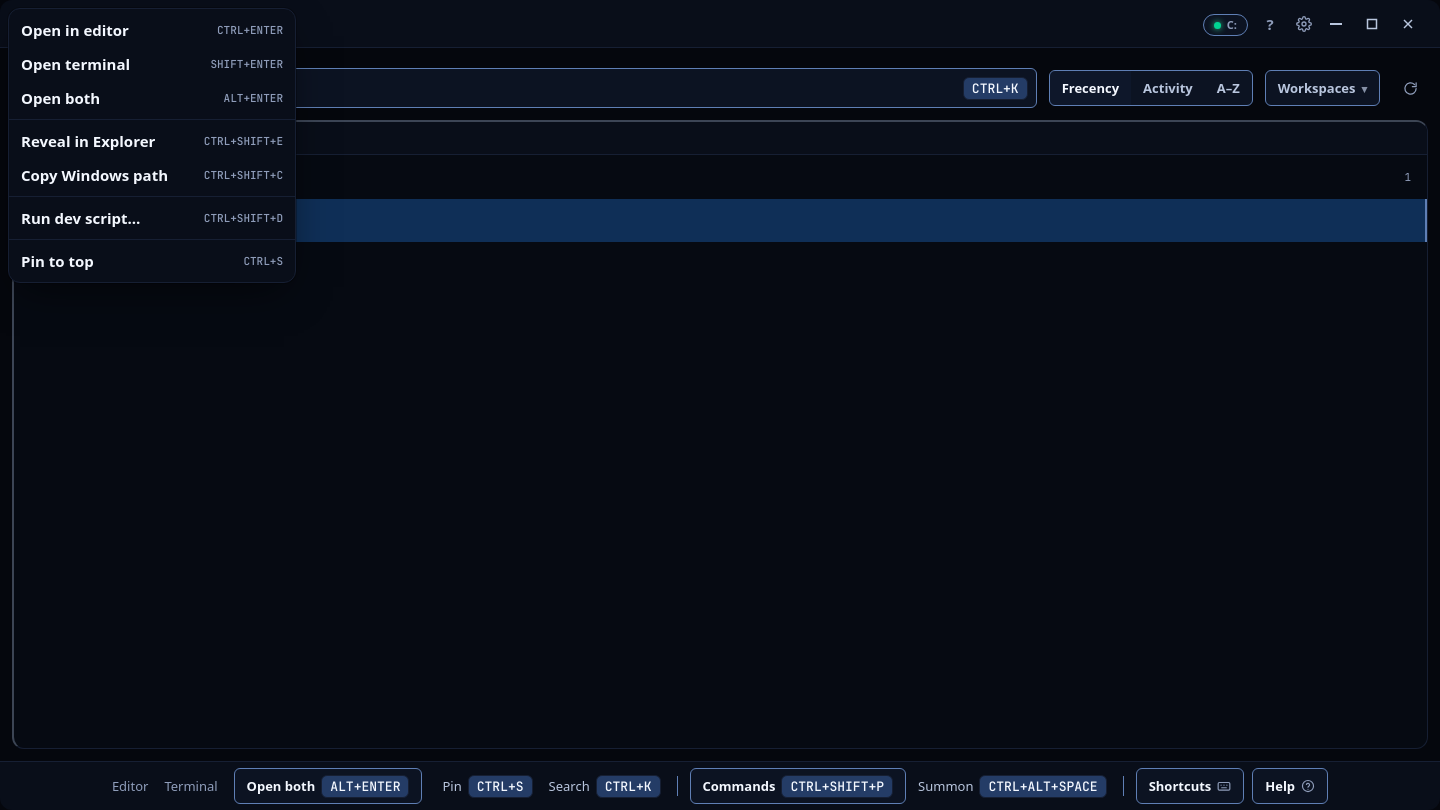
Test: project menu › launch section › "Open both" surfaces its refusal as a toast
Click the 1st button "Open both Alt+Enter".
click(61, 98)  # box [9, 81, 295, 115]
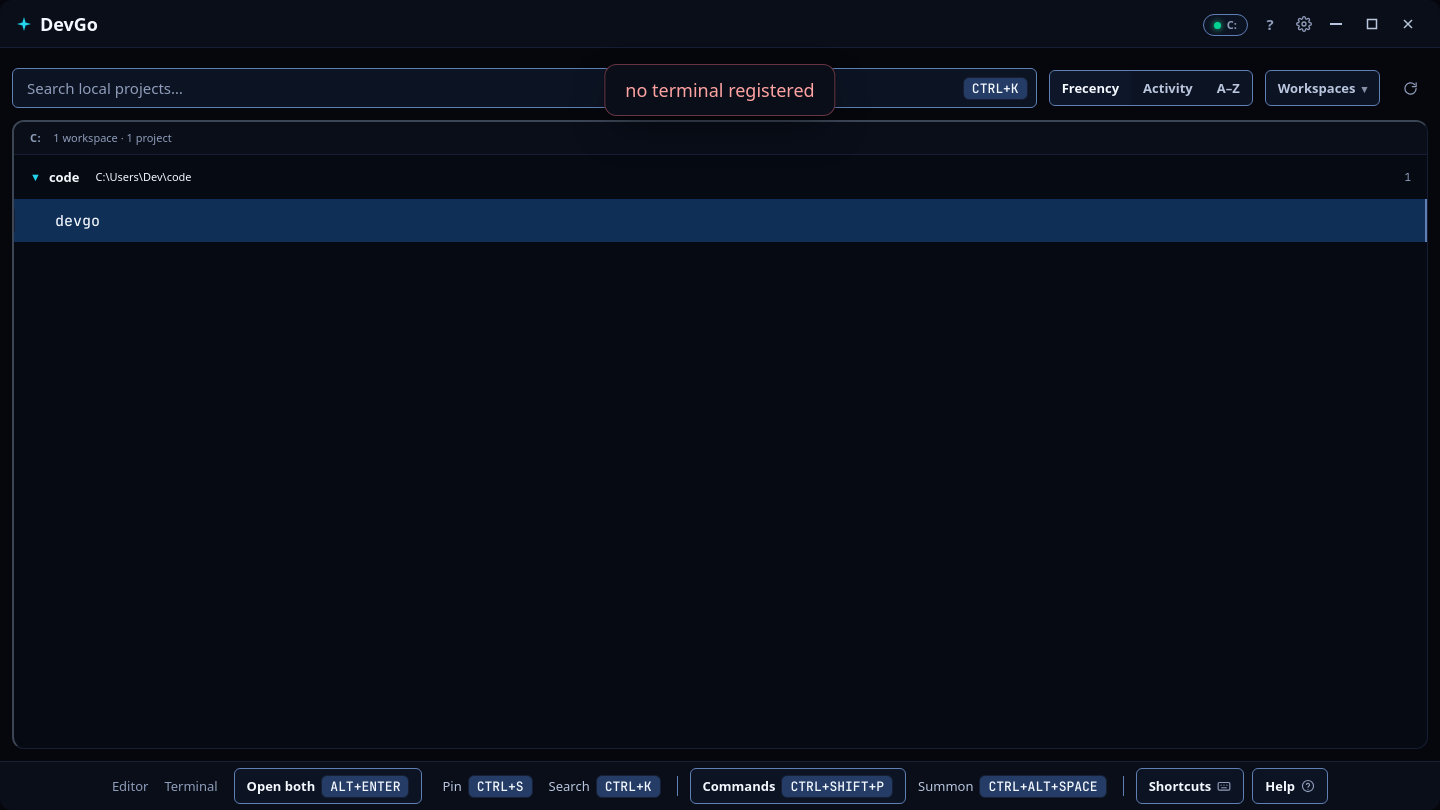
Result: the text "no terminal registered" is shown at [625, 77, 815, 103]
